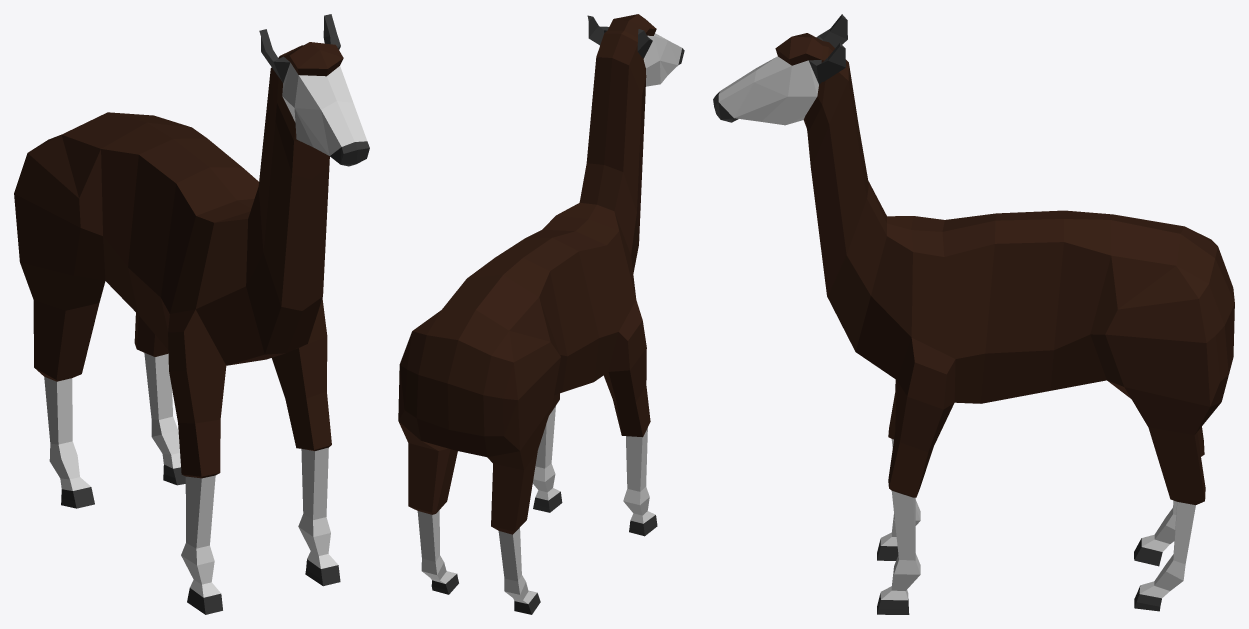
File: Llama__1_000001.obj
The picture shows the model from 3 angles, left to right: view 1: azimuth 30°, elevation 25°; view 2: azimuth 150°, elevation 25°; view 3: azimuth 270°, elevation 25°; orthographic projection. The views are drawn at different scales.
Visible parts, largest first — view 1: Llama_Cylinder; view 2: Llama_Cylinder; view 3: Llama_Cylinder.
Boxes of the visible parts, x1,y1,x2,y2 form: Llama_Cylinder: (14,14,369,614); Llama_Cylinder: (398,14,684,614); Llama_Cylinder: (713,14,1234,614).
Size of the model in its own units: 1.57 by 5.79 by 4.92.
